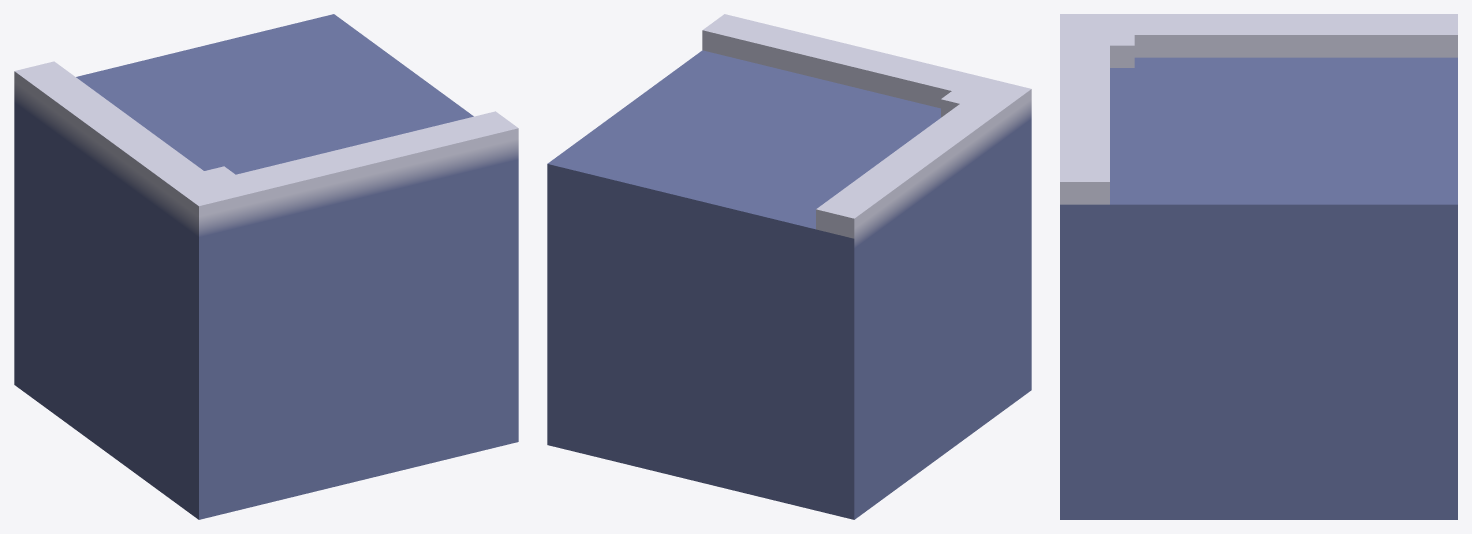
File: GroundCorner_1.fbx
3 views of the same model, side by side, from view 1: azimuth 30°, elevation 25°; view 2: azimuth 150°, elevation 25°; view 3: azimuth 270°, elevation 25° (orthographic). The views are drawn at different scales.
Parts seen in each view (by area): view 1: GroundCorner_1; view 2: GroundCorner_1; view 3: GroundCorner_1.
Boxes of the visible parts, x1,y1,x2,y2 form: GroundCorner_1: (14,14,518,519); GroundCorner_1: (547,14,1031,519); GroundCorner_1: (1060,14,1457,519).
Size of the model in its own units: 16 by 15 by 16.
1 material, 1 textured.
